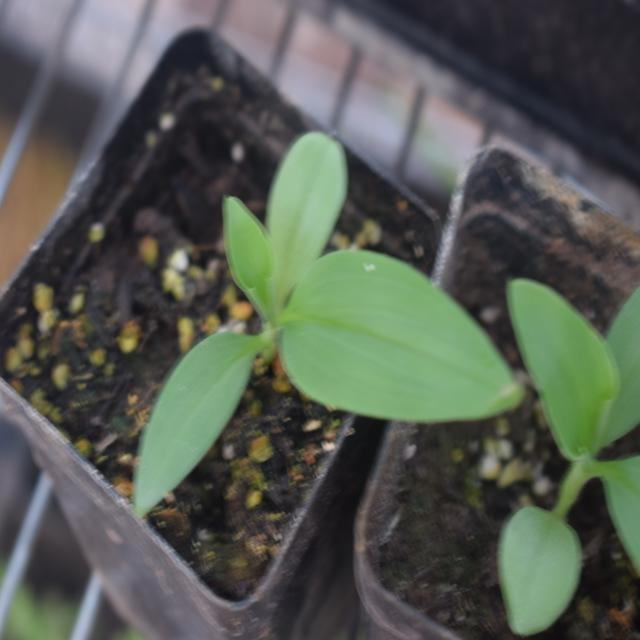Common Dayflower: (115, 107, 510, 520)
